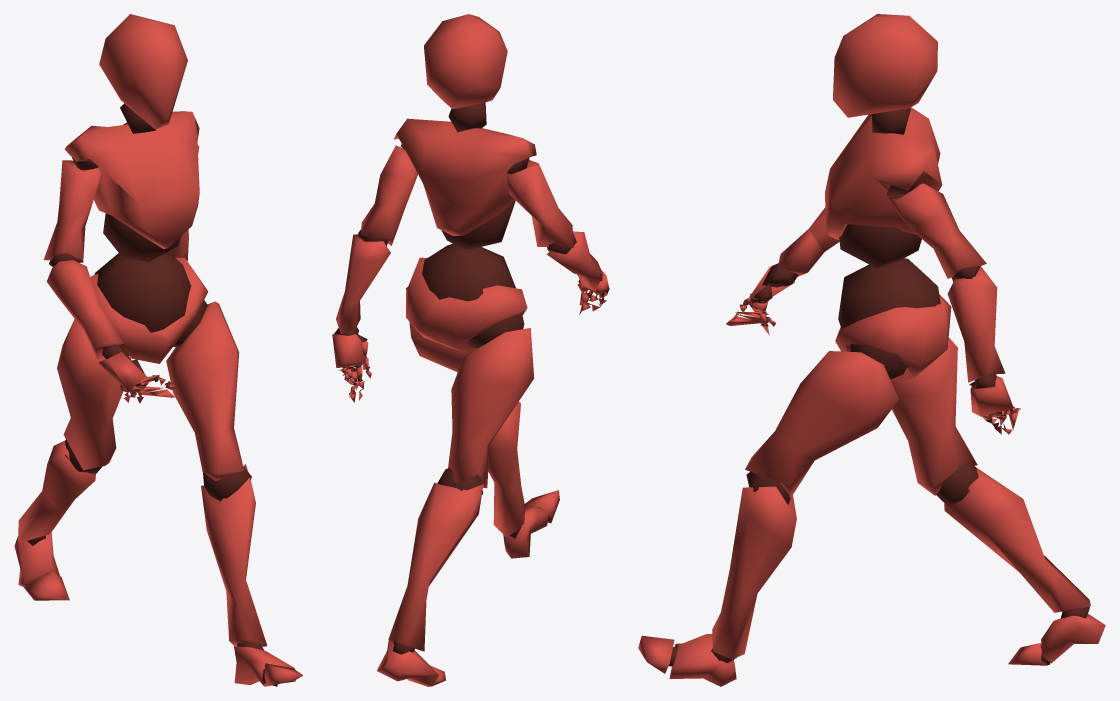
3 renders of one model, left to right at view 1: azimuth 30°, elevation 25°; view 2: azimuth 150°, elevation 25°; view 3: azimuth 270°, elevation 25°, orthographic. The views are drawn at different scales.
Parts seen in each view (by area): view 1: Beta_Surface; view 2: Beta_Surface; view 3: Beta_Surface.
Part boxes in pixels (x1,y1,x2,y2): Beta_Surface: (14, 14, 302, 686); Beta_Surface: (332, 14, 609, 686); Beta_Surface: (638, 14, 1105, 686).
Bounding box in the file's own units: 4.59 × 14 × 8.98.
